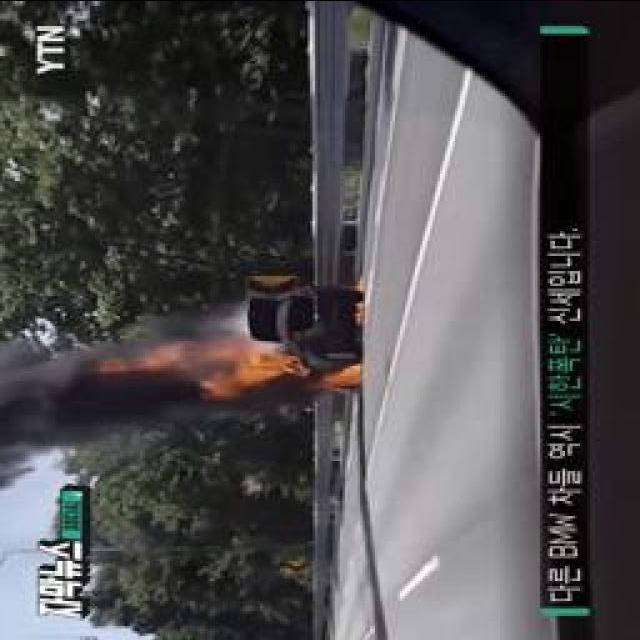Fire: (238, 342, 300, 380), (326, 362, 359, 386)
